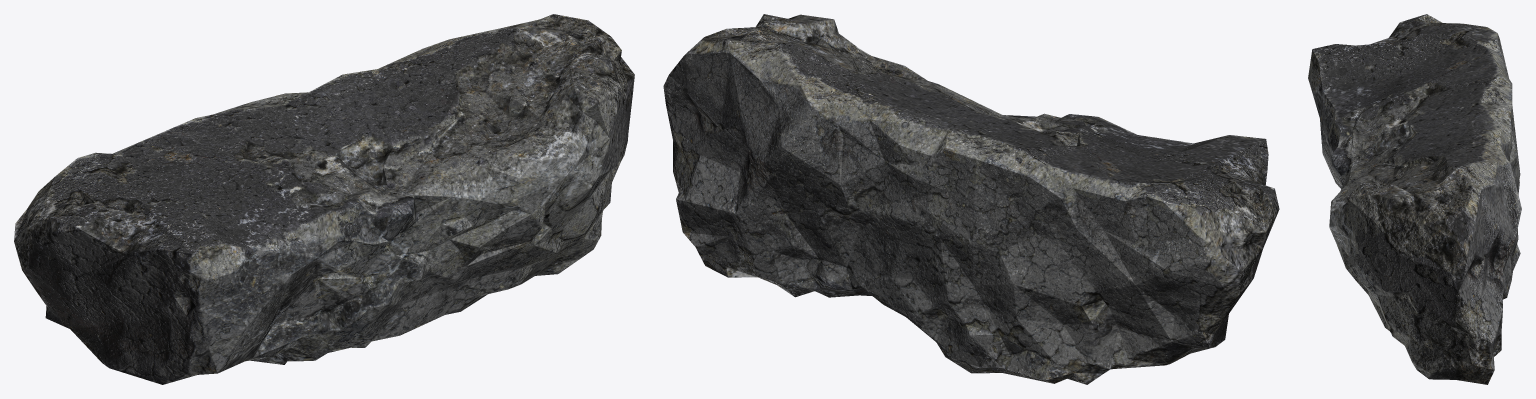
File: GRO17059-0.fbx
The picture shows the model from 3 angles, left to right: view 1: azimuth 30°, elevation 25°; view 2: azimuth 150°, elevation 25°; view 3: azimuth 270°, elevation 25°; orthographic projection. The views are drawn at different scales.
Visible parts, largest first — view 1: GRO17059-0; view 2: GRO17059-0; view 3: GRO17059-0.
Boxes of the visible parts, <box> form: GRO17059-0: <box>14,14,634,384</box>; GRO17059-0: <box>663,14,1279,384</box>; GRO17059-0: <box>1308,14,1521,384</box>.
Size of the model in its own units: 110 by 46.42 by 39.46.
